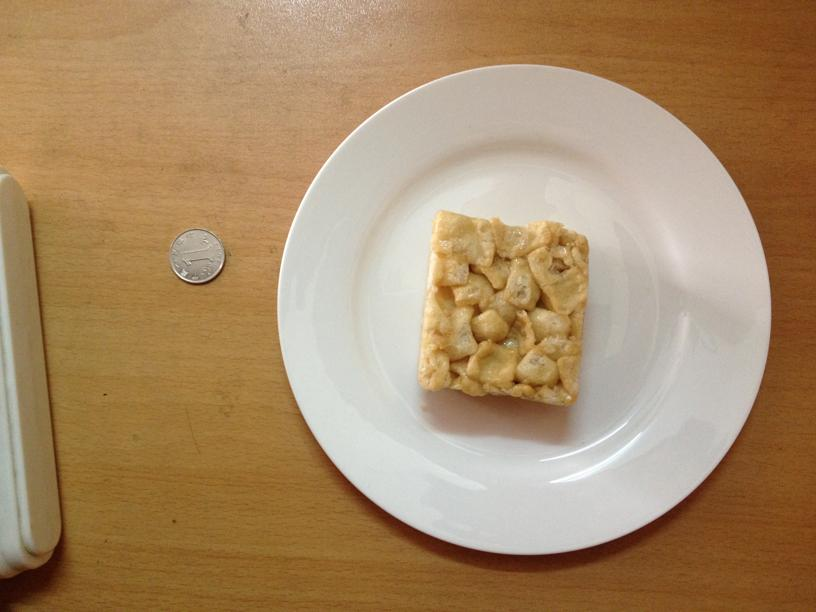coin: (169, 227, 227, 285)
sachima: (416, 210, 588, 407)
